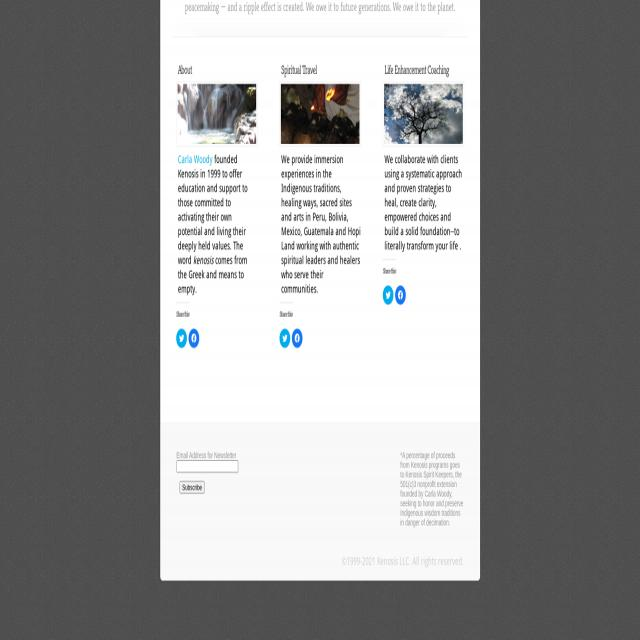button: (178, 84, 256, 144), (281, 84, 359, 144), (384, 84, 462, 144), (180, 481, 204, 493), (176, 329, 187, 348), (189, 329, 199, 348), (280, 329, 290, 348), (292, 329, 302, 348), (383, 286, 393, 304), (395, 286, 405, 304)
field: (176, 460, 238, 473)
